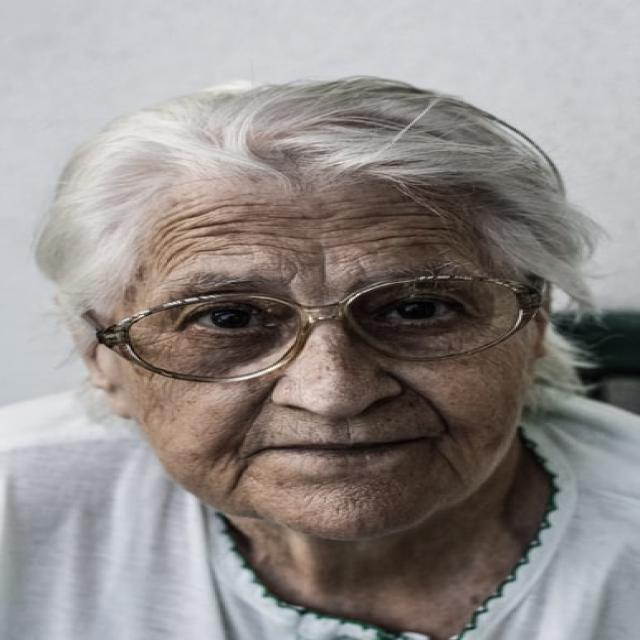Wrinkles: (165, 248, 229, 276), (325, 213, 437, 223), (325, 235, 414, 247), (176, 220, 272, 231), (192, 230, 314, 238), (163, 241, 199, 268), (220, 243, 317, 252), (184, 216, 215, 233), (324, 222, 376, 232), (173, 209, 212, 222), (160, 222, 185, 239), (381, 242, 449, 247), (266, 215, 317, 220), (216, 203, 268, 207), (391, 226, 449, 229), (168, 233, 184, 241), (153, 239, 160, 252), (159, 241, 168, 249), (215, 212, 231, 216), (156, 249, 159, 258), (282, 225, 300, 226), (265, 224, 282, 225), (255, 224, 265, 225)
